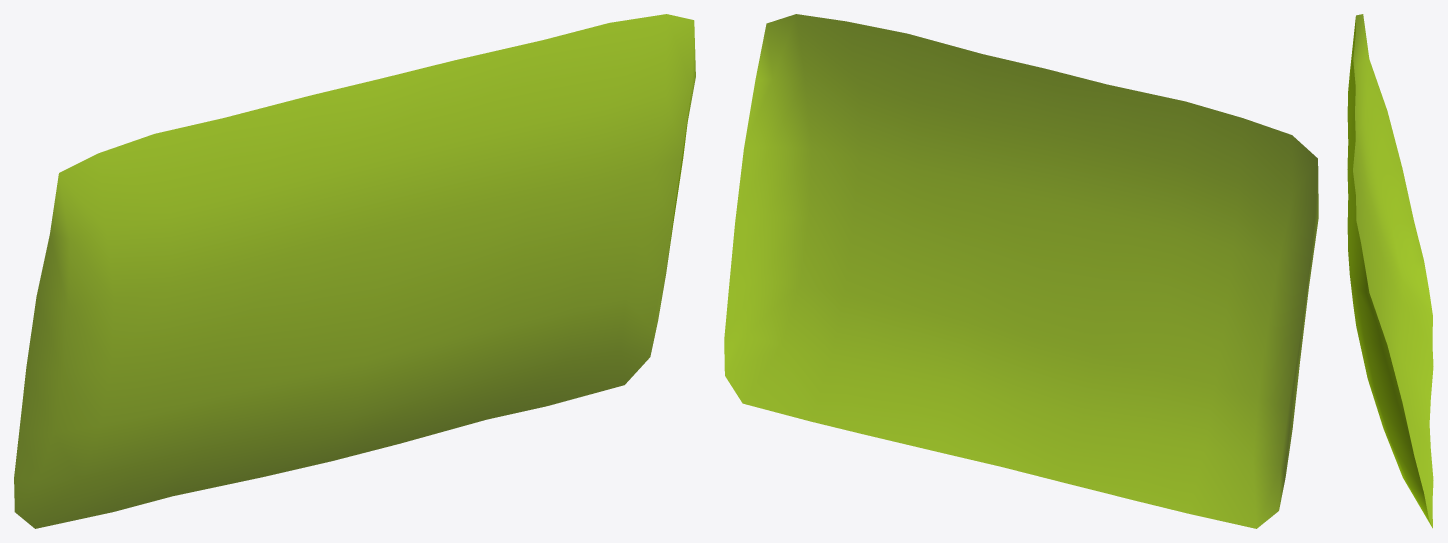
The model's file is bigScreenGlass.fbx.
3 renders of one model, left to right at view 1: azimuth 30°, elevation 25°; view 2: azimuth 150°, elevation 25°; view 3: azimuth 270°, elevation 25°, orthographic. The views are drawn at different scales.
Parts seen in each view (by area): view 1: screenGlass; view 2: screenGlass; view 3: screenGlass.
Part boxes in pixels (x1,y1,x2,y2): screenGlass: [14, 14, 695, 528]; screenGlass: [724, 14, 1318, 528]; screenGlass: [1347, 14, 1433, 528].
Bounding box in the file's own units: 215 × 133 × 33.28.
